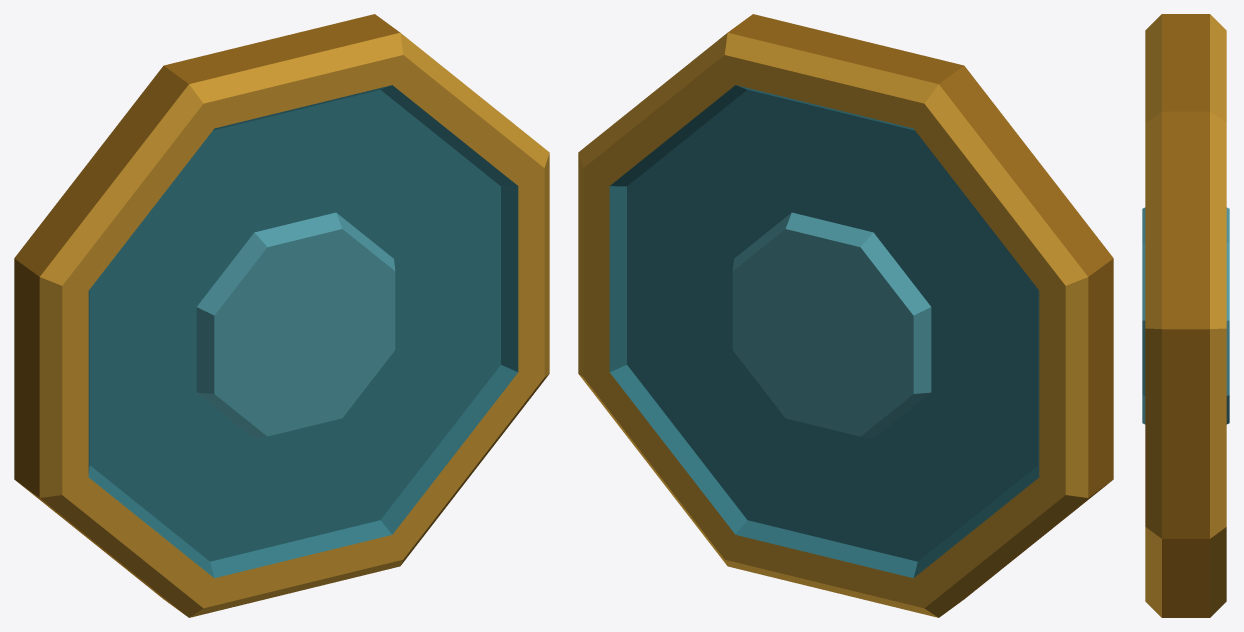
The model's file is Coin_03.glb.
3 renders of one model, left to right at view 1: azimuth 30°, elevation 25°; view 2: azimuth 150°, elevation 25°; view 3: azimuth 270°, elevation 25°, orthographic. The views are drawn at different scales.
Visible parts, largest first — view 1: Coin_03; view 2: Coin_03; view 3: Coin_03.
Part boxes in pixels (x1,y1,x2,y2): Coin_03: (14, 14, 549, 617); Coin_03: (578, 14, 1113, 617); Coin_03: (1142, 14, 1229, 617).
Size of the model in its own units: 1.53 by 1.53 by 0.238.
